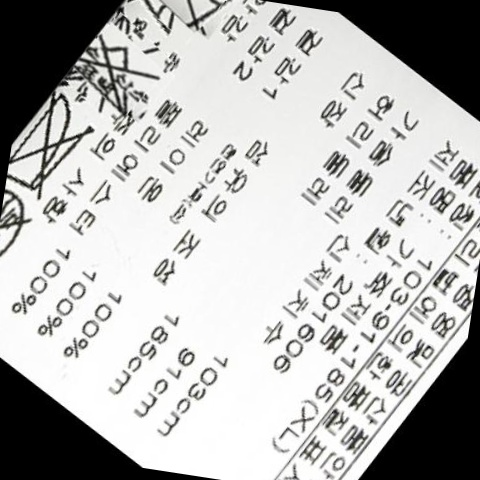DN_bleach: (68, 32, 163, 112)
DN_iron: (6, 96, 97, 199)
